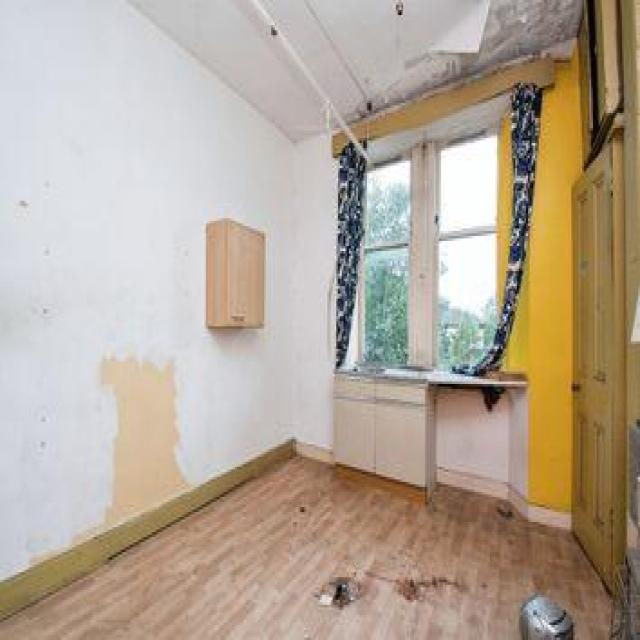Wall: (0, 3, 292, 579), (0, 456, 611, 639), (132, 0, 581, 140), (200, 135, 336, 445), (502, 54, 582, 513), (351, 61, 555, 141), (436, 390, 508, 483), (499, 116, 513, 303)
